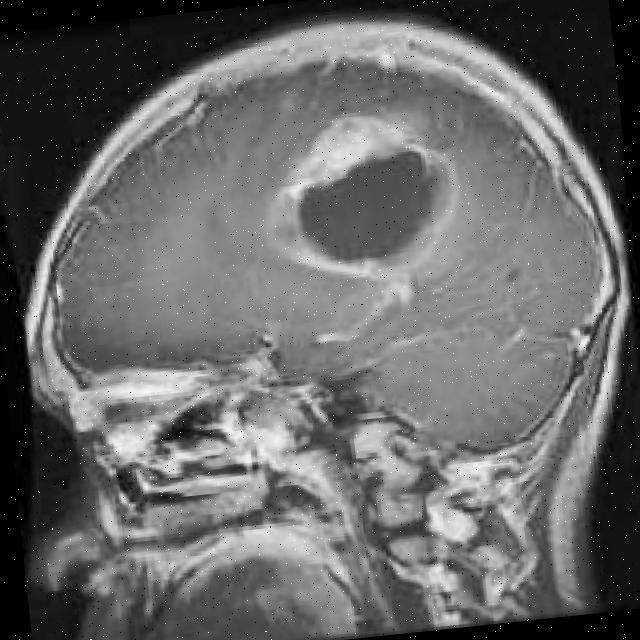EMCI: (281, 128, 474, 322)
